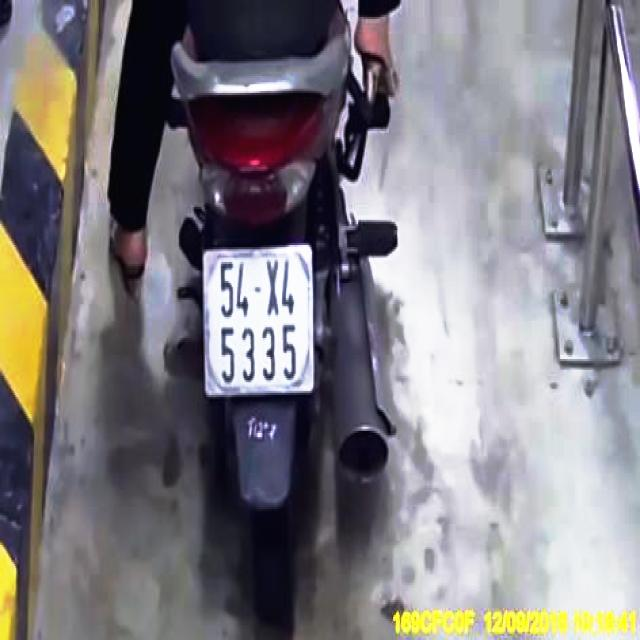license_plate: (204, 249, 316, 396)
